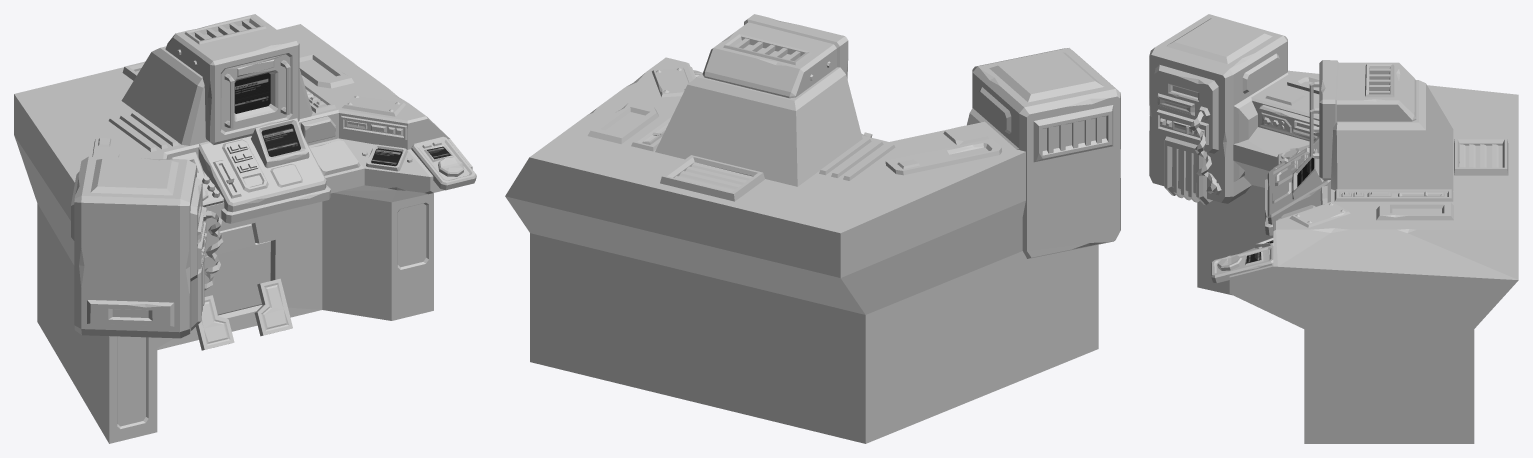
Rendered from SM_Prop_Cockpit_L_01.fbx.
3 renders of one model, left to right at view 1: azimuth 30°, elevation 25°; view 2: azimuth 150°, elevation 25°; view 3: azimuth 270°, elevation 25°, orthographic. The views are drawn at different scales.
Visible parts, largest first — view 1: SM_Prop_Cockpit_L_01; view 2: SM_Prop_Cockpit_L_01; view 3: SM_Prop_Cockpit_L_01.
Boxes of the visible parts, box(x1,y1,x2,y2) form: SM_Prop_Cockpit_L_01: box(14, 14, 476, 443); SM_Prop_Cockpit_L_01: box(505, 14, 1120, 443); SM_Prop_Cockpit_L_01: box(1149, 14, 1518, 443).
Size of the model in its own units: 254 by 176 by 207.
